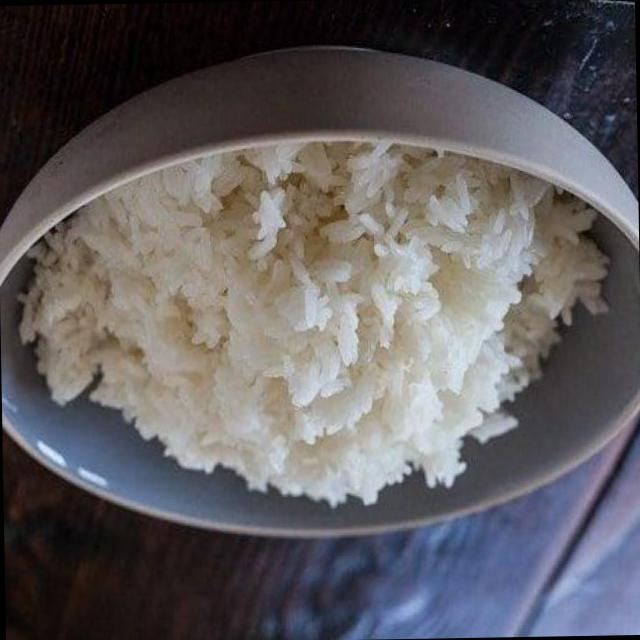rice: (12, 143, 609, 505)
